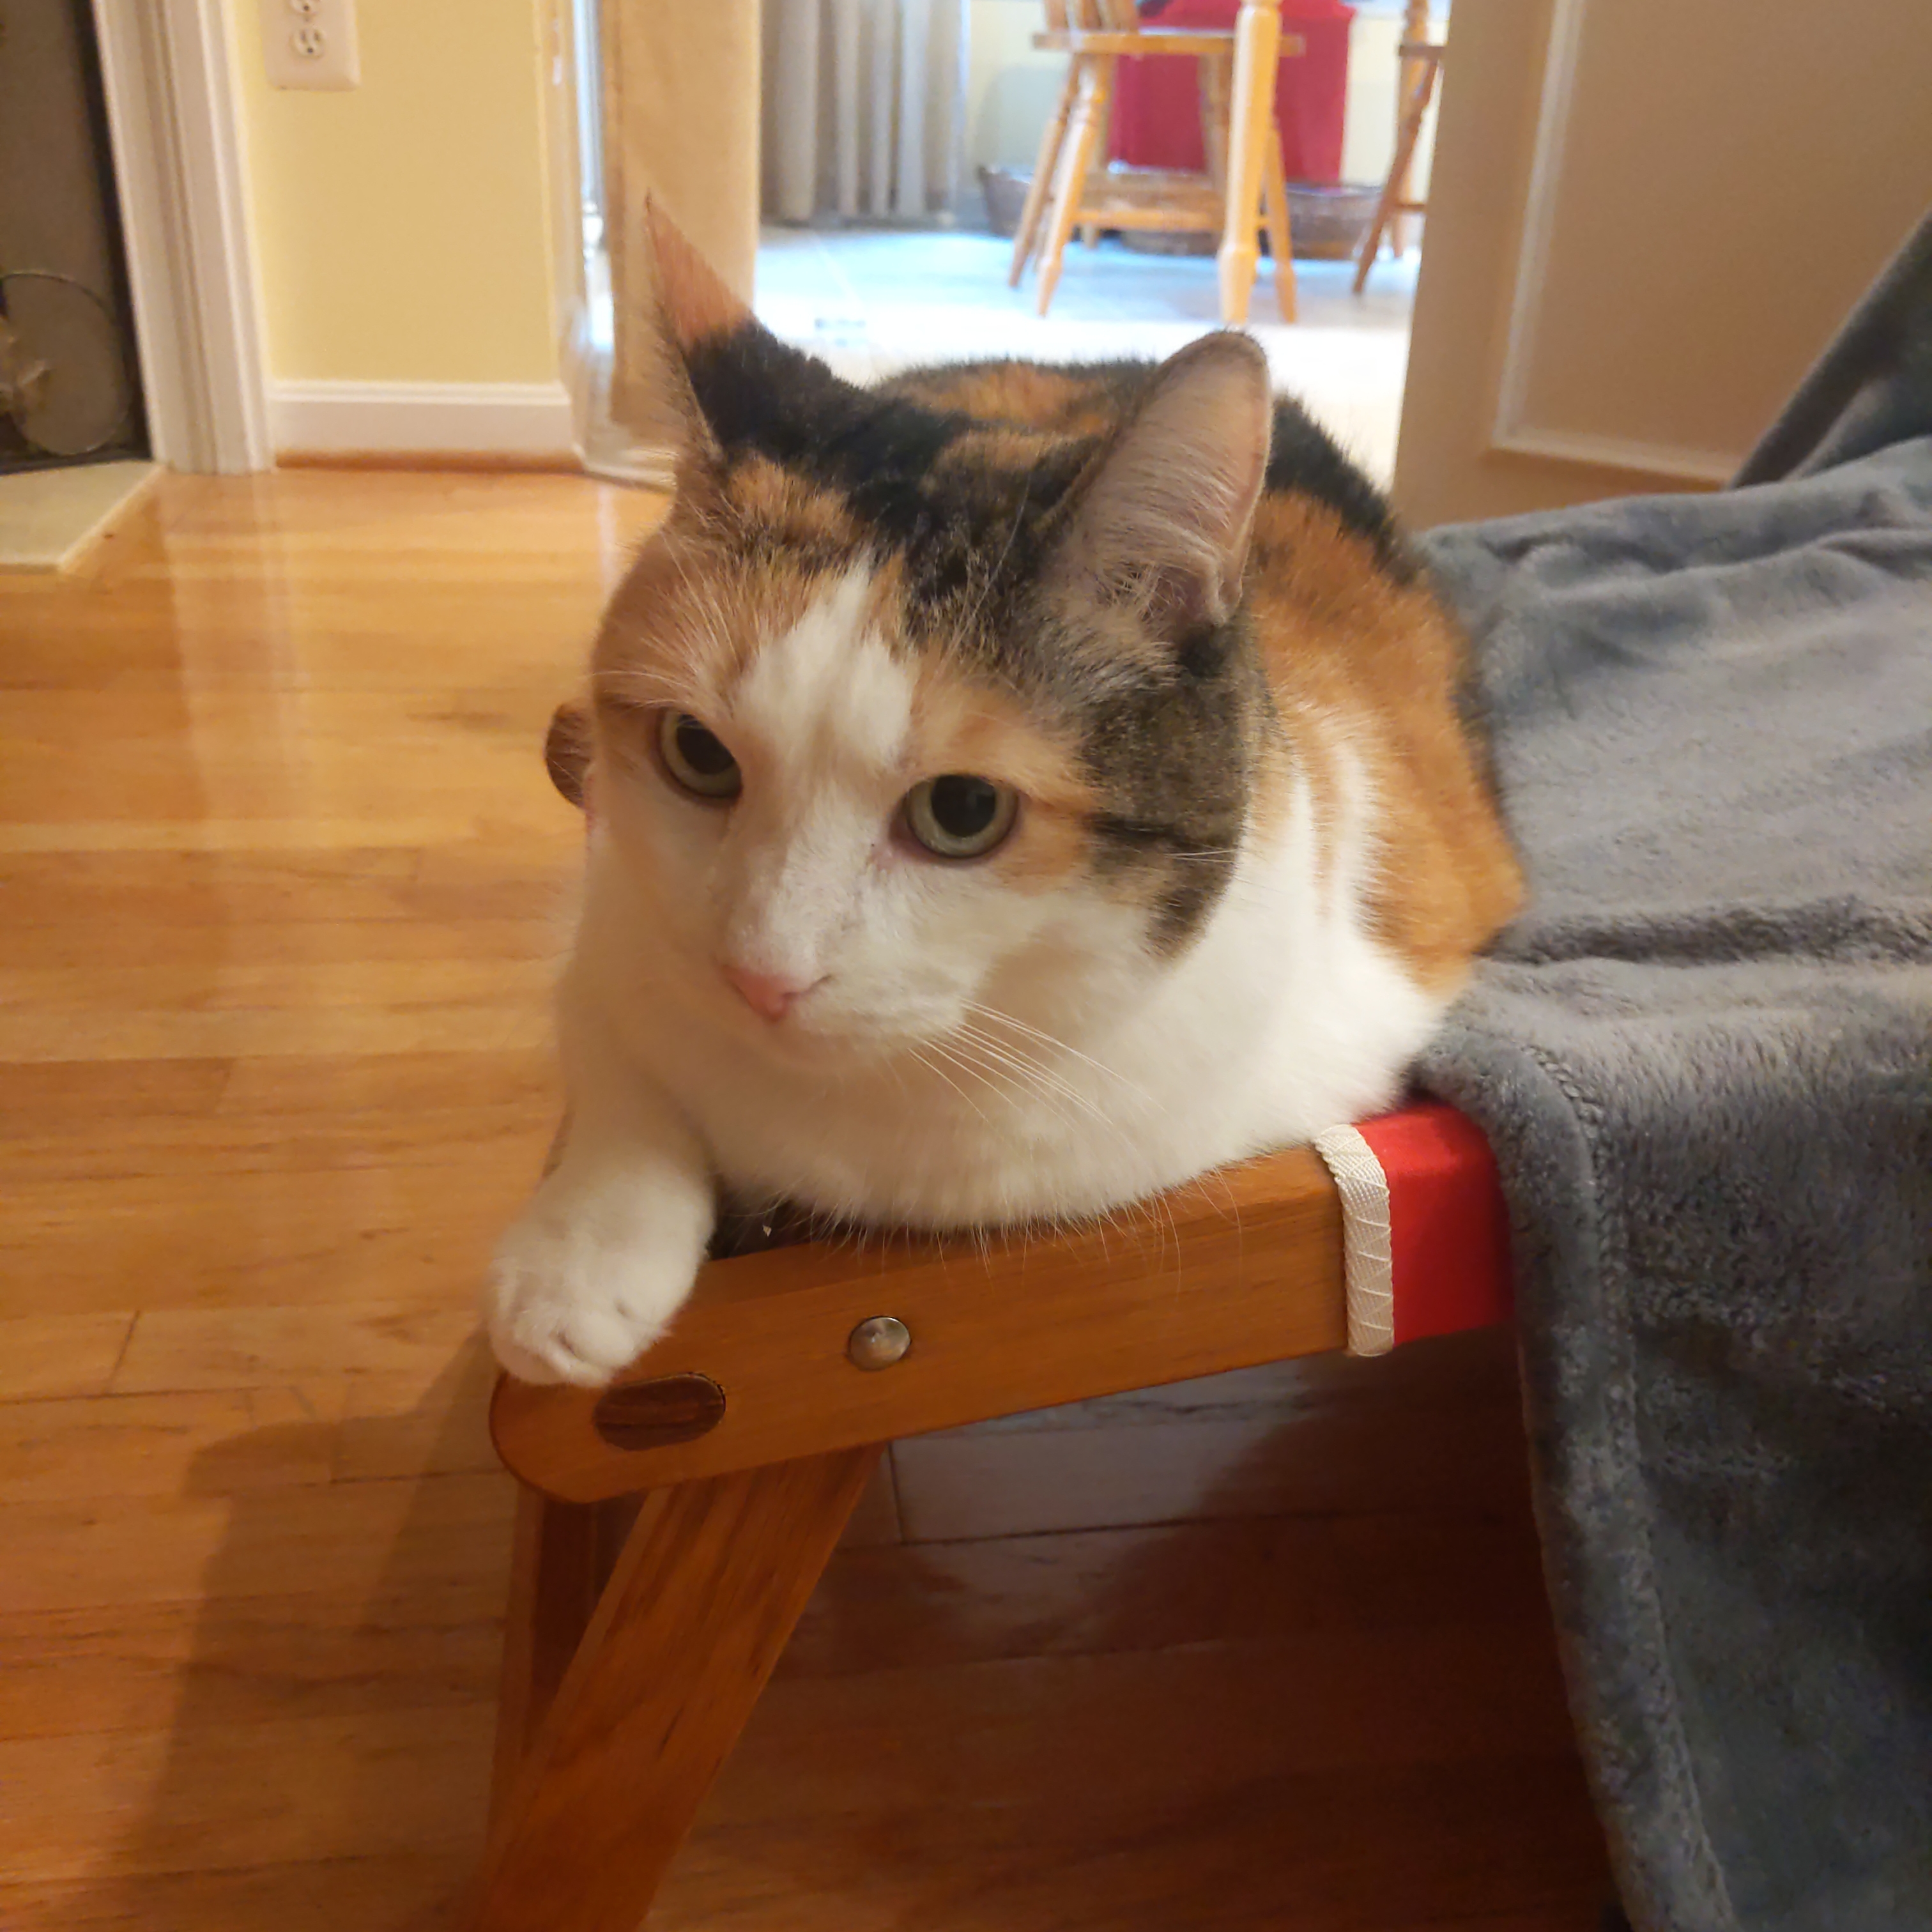Calico: (485, 189, 1527, 1391)
